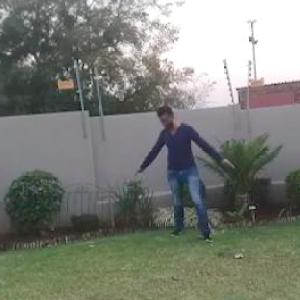land: (124, 101, 238, 251)
